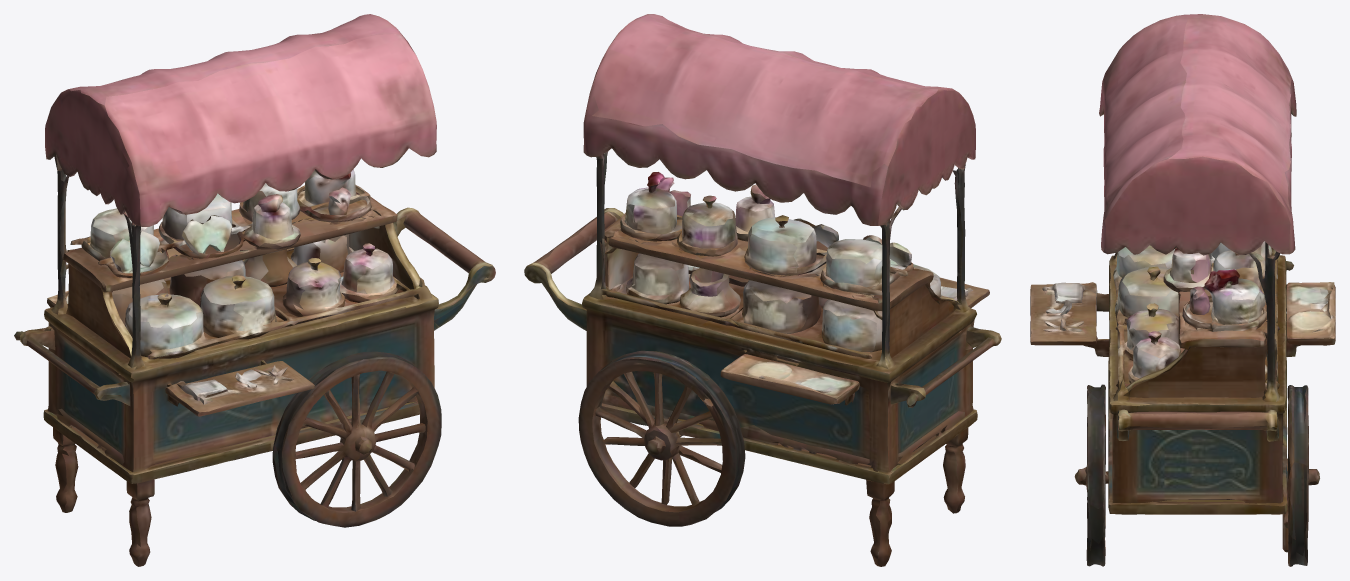
Rendered from pastry-cart.glb.
3 renders of one model, left to right at view 1: azimuth 30°, elevation 25°; view 2: azimuth 150°, elevation 25°; view 3: azimuth 270°, elevation 25°, orthographic.
Parts seen in each view (by area): view 1: geometry_0; view 2: geometry_0; view 3: geometry_0.
Boxes of the visible parts, x1,y1,x2,y2 form: geometry_0: (14, 14, 495, 566); geometry_0: (524, 14, 1001, 566); geometry_0: (1030, 14, 1335, 566).
Size of the model in its own units: 1.31 by 1.4 by 0.871.
1 material, 1 textured.
